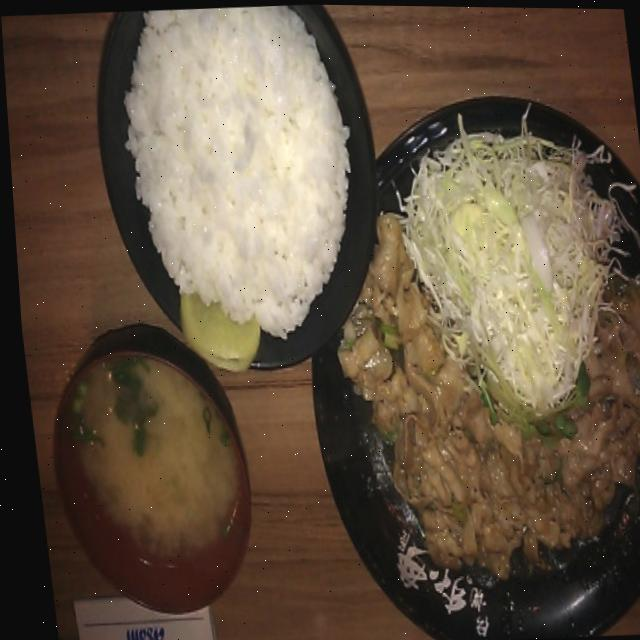米饭主食: (78, 1, 399, 386)
